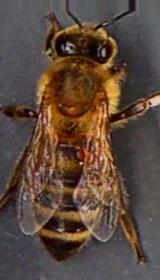varroa_mite: (74, 140, 98, 165)
